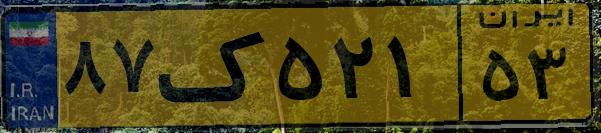1: (385, 28, 445, 110)
2: (330, 28, 385, 110)
3: (525, 38, 570, 115)
5: (270, 28, 330, 110), (475, 38, 525, 113)
7: (110, 28, 158, 98)
8: (57, 26, 110, 100)
ک: (158, 12, 270, 120)
